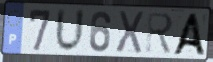6: (88, 10, 113, 54)
7: (28, 7, 53, 53)
A: (170, 13, 207, 58)
R: (145, 11, 175, 56)
U: (54, 7, 86, 54)
X: (114, 10, 145, 56)
